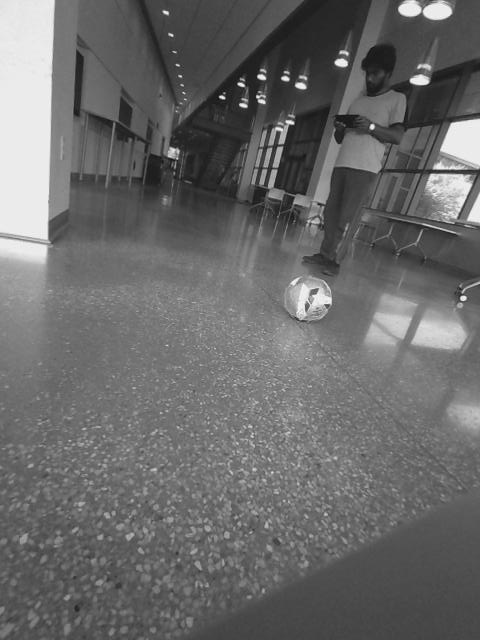ball: (279, 271, 335, 323)
